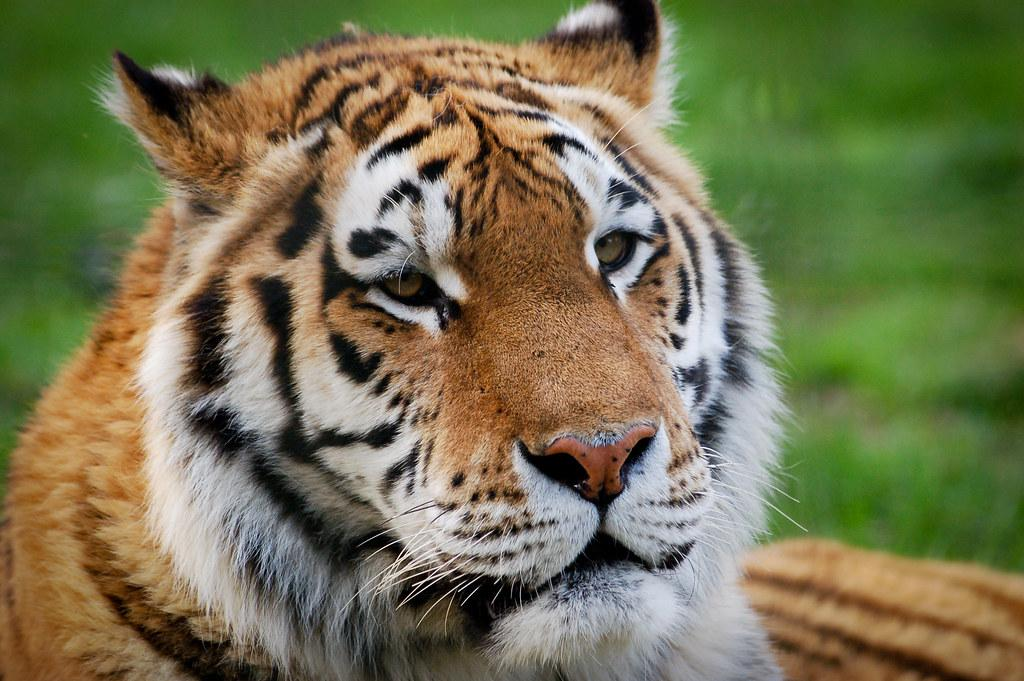tiger: (3, 2, 1020, 680)
